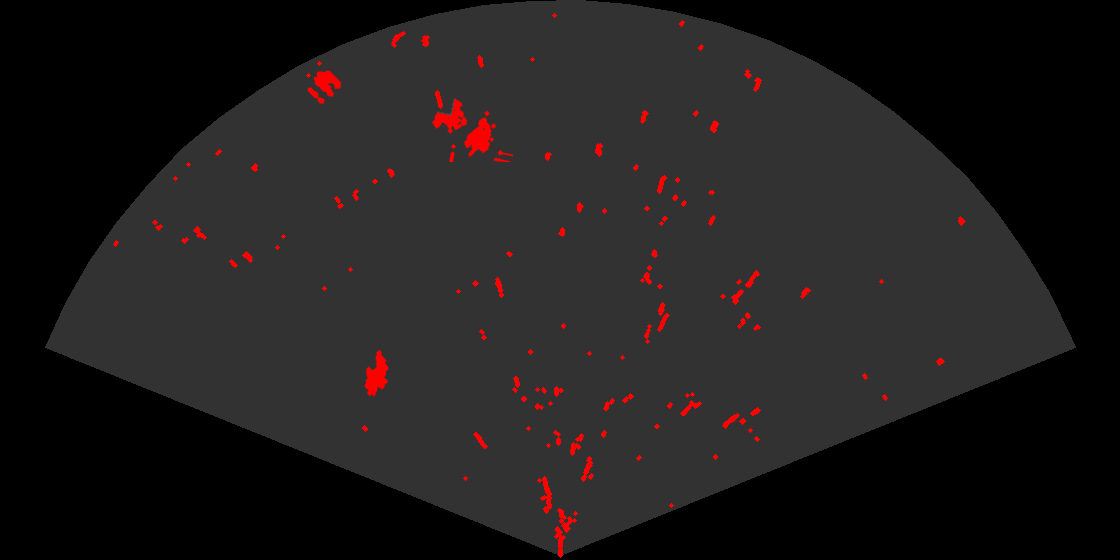AUV: (363, 348, 390, 398)
ball: (306, 69, 343, 106)
cage: (430, 97, 513, 162)
